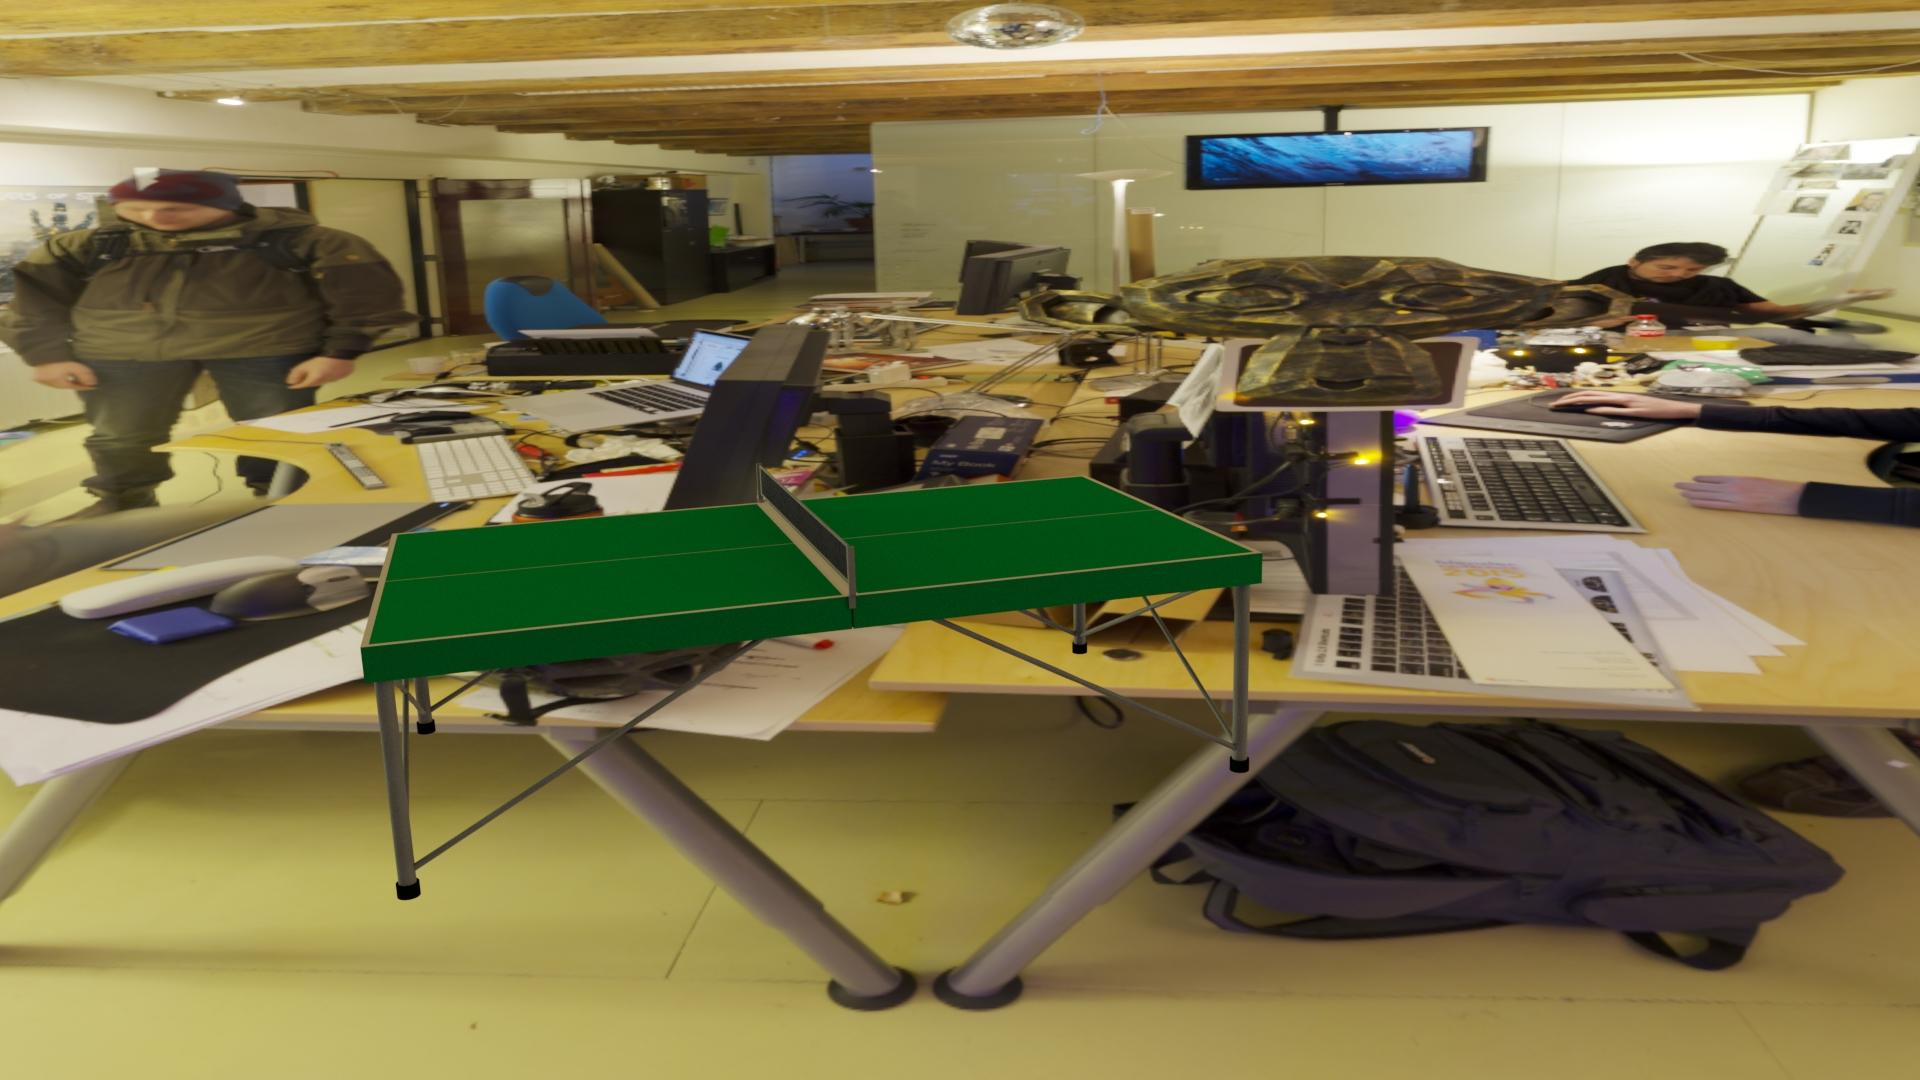table: (368, 476, 1254, 645)
